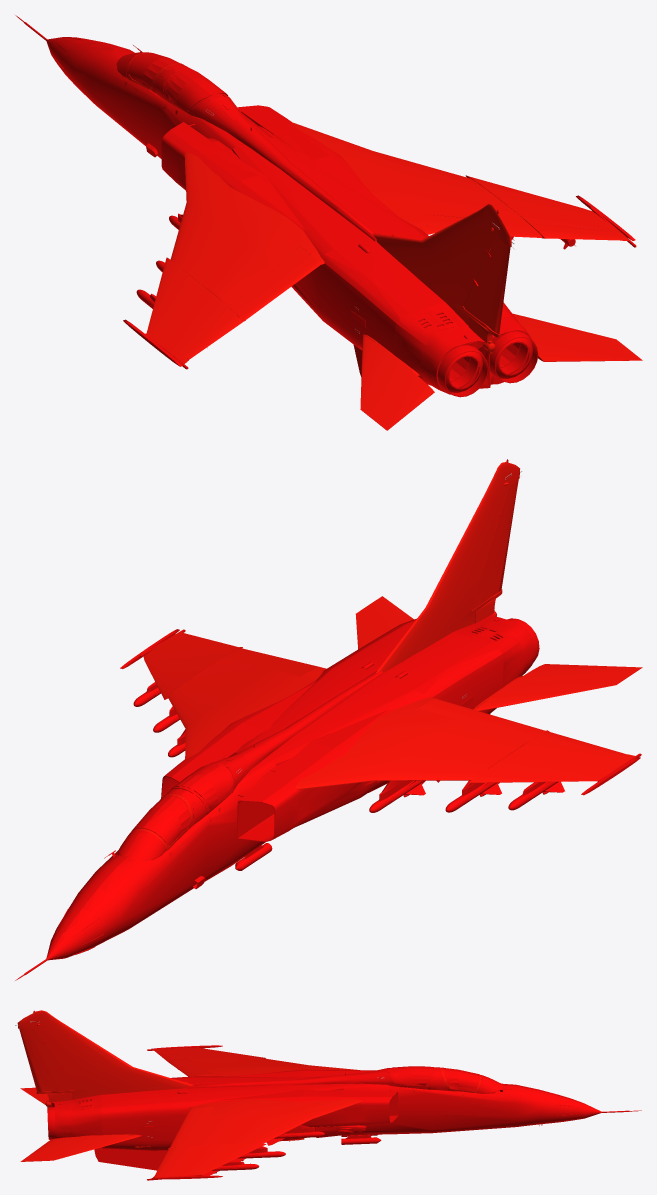
The model's file is red-7.glb.
3 views of the same model, one above another, from view 1: azimuth 30°, elevation 25°; view 2: azimuth 150°, elevation 25°; view 3: azimuth 270°, elevation 25° (orthographic). The views are drawn at different scales.
Parts seen in each view (by area): view 1: glb_com_j70001, glb_com_j70003, glb_com_j70012, glb_com_j70006, glb_com_j70004; view 2: glb_com_j70001, glb_com_j70003, glb_com_j70012, glb_com_j70006, glb_com_j70002; view 3: glb_com_j70001, glb_com_j70003, glb_com_j70012, glb_com_j70006, glb_com_j70002.
Boxes of the visible parts, box(x1,y1,x2,y2) form: glb_com_j70001: box(127, 52, 642, 430); glb_com_j70003: box(123, 105, 636, 397); glb_com_j70012: box(15, 15, 376, 376); glb_com_j70006: box(117, 52, 498, 211); glb_com_j70004: box(449, 342, 520, 381); glb_com_j70001: box(132, 460, 642, 850); glb_com_j70003: box(120, 614, 641, 888); glb_com_j70012: box(15, 671, 490, 980); glb_com_j70006: box(118, 459, 507, 859); glb_com_j70002: box(133, 687, 564, 812); glb_com_j70001: box(17, 1010, 482, 1177); glb_com_j70003: box(47, 1045, 398, 1180); glb_com_j70012: box(94, 1067, 641, 1170); glb_com_j70006: box(34, 1010, 502, 1092); glb_com_j70002: box(178, 1069, 324, 1175).
Size of the model in its own units: 31.65 by 15.6 by 60.1.
